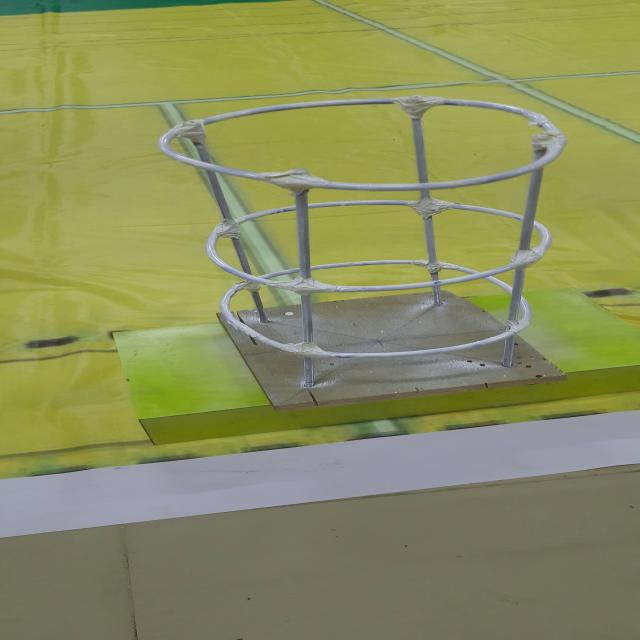silo: (135, 88, 589, 412)
